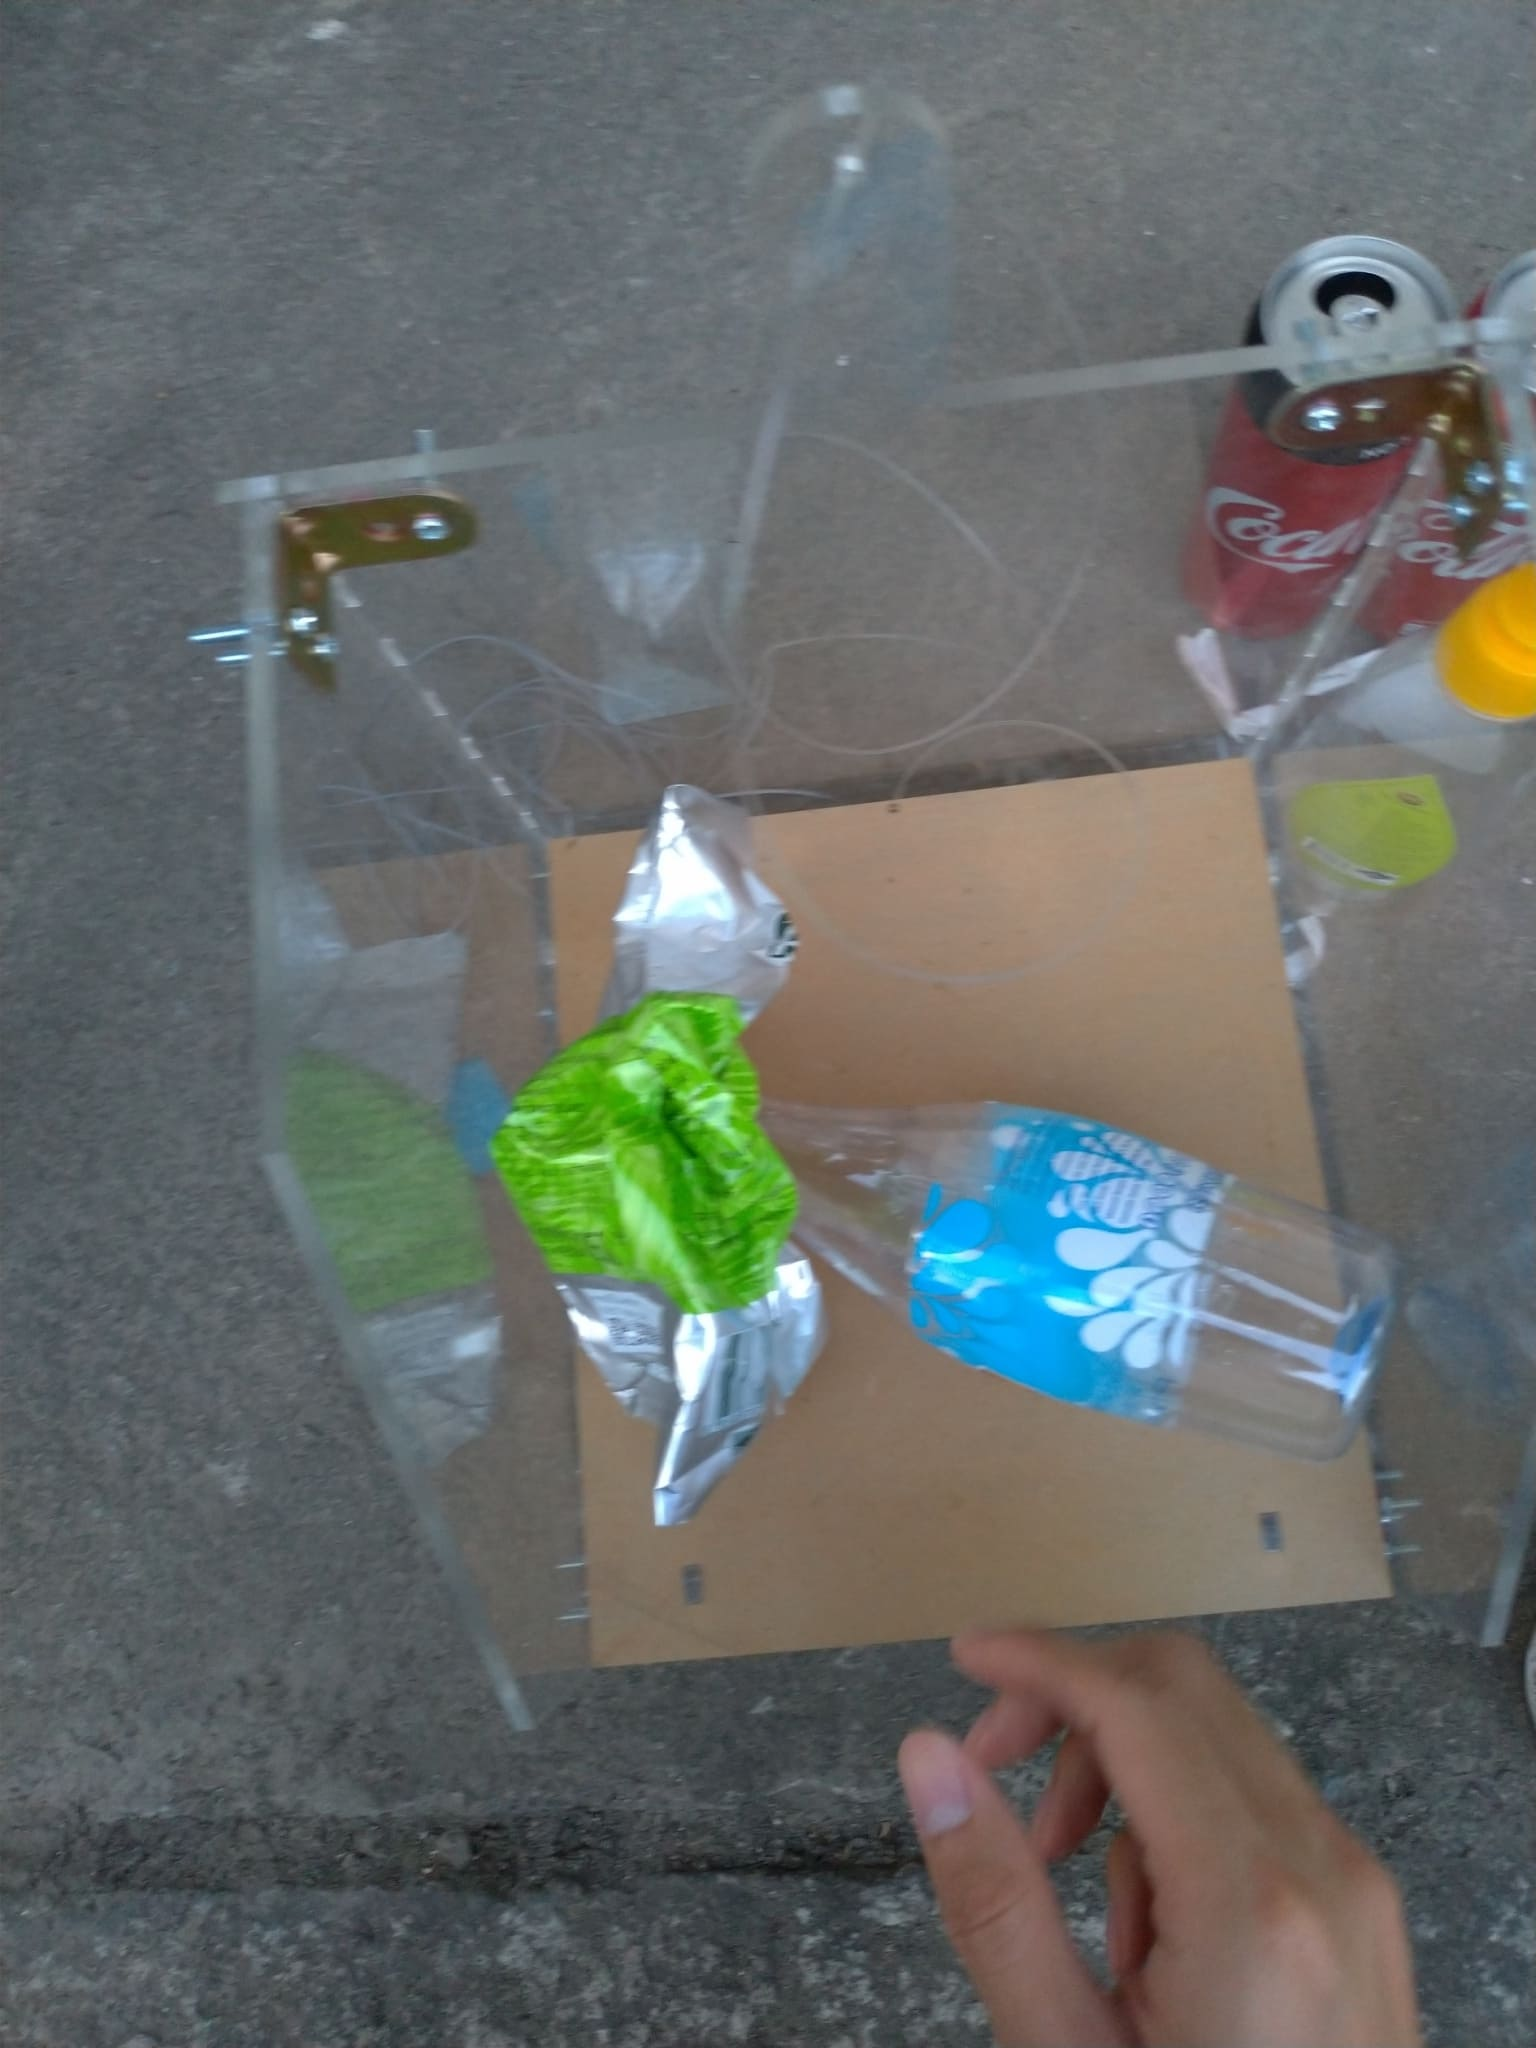AlCan: (1184, 235, 1454, 643), (1371, 260, 1536, 618)
Others: (490, 785, 829, 1513)
PlasticBottle: (766, 1089, 1397, 1459), (1249, 564, 1536, 927)
